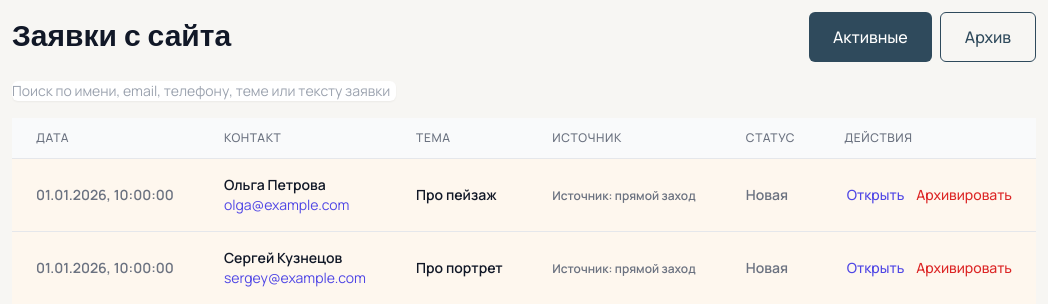
it: MessagesList › filters messages by search query across name, email, subject and message
This screenshot has width=1048, height=304.
Step 1. Type "петрова" into the field named "Поиск по заявкам" → [204, 91], box x1=12 y1=81 x2=396 y2=101
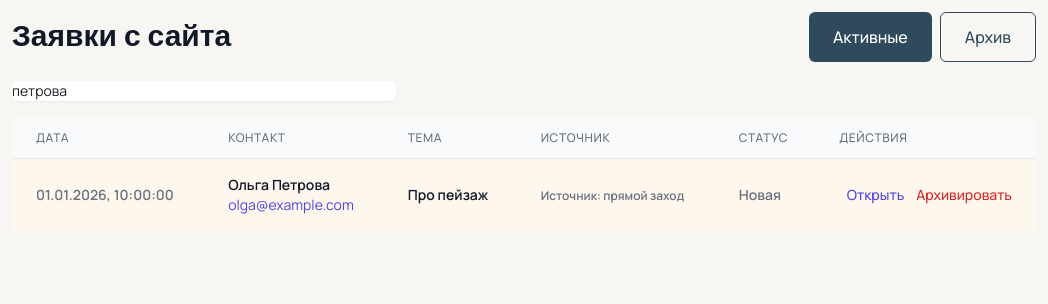
Expected: the text "Ольга Петрова" is shown, x1=228 y1=175 x2=330 y2=194
Expected: the text "Сергей Кузнецов" is gone
